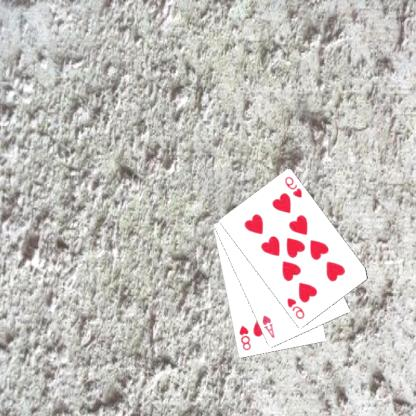8H: (238, 323, 254, 352)
9H: (286, 295, 307, 321), (284, 174, 305, 200)
AH: (261, 312, 278, 340)
